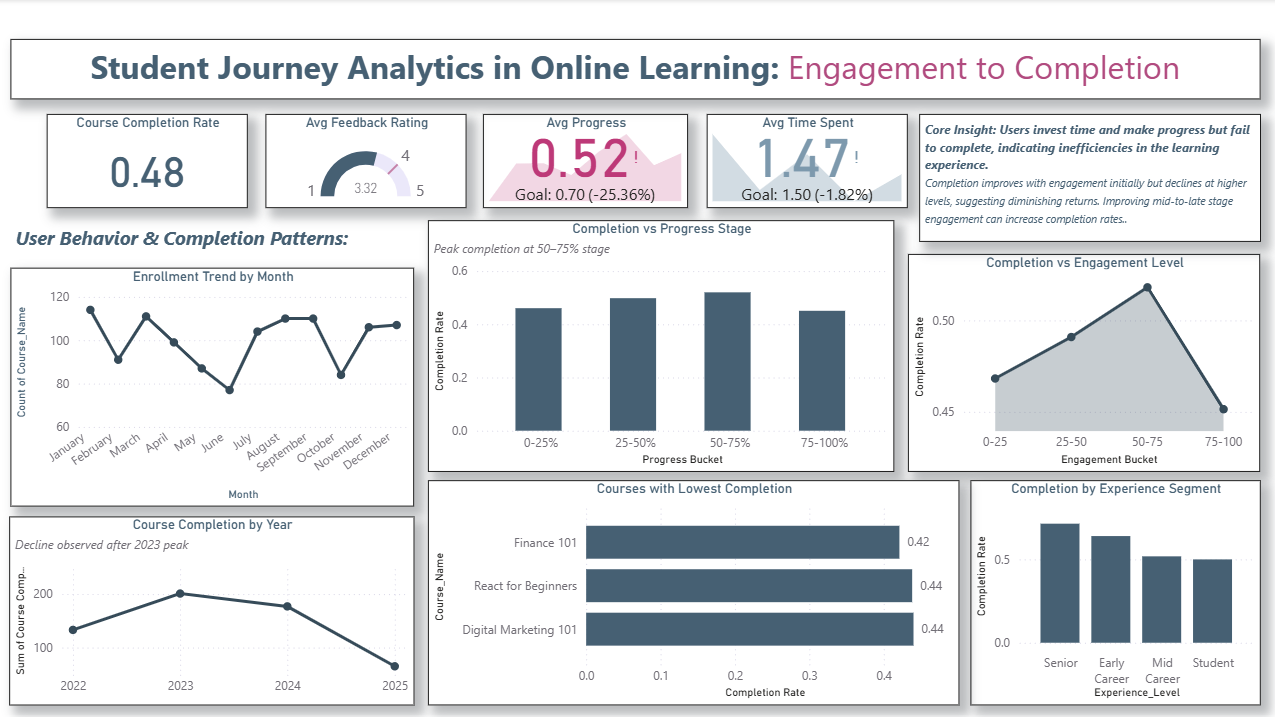

The page's visual inventory and layout, read from the dashboard file:
{"tool":"powerbi","page":{"name":"Performance & Engagement Analysis ","canvas":[1280,720],"ordinal":0},"visuals":[{"type":"kpi","title":"Avg Progress","fields":{"Indicator":["Avg(Final Data.Progress (%))"],"TrendLine":["Final Data.Total Sessions"],"Goal":["Final Data.Progress Goal"]},"box":[483.1,114.9,204,93.3],"z":0},{"type":"textbox","box":[12.4,39.8,1244,59.7],"z":1000},{"type":"gauge","title":"Avg Feedback Rating","fields":{"Y":["Avg(Final Data.Feedback_Rating)"],"MaxValue":["Final Data.Max Feedback"],"MinValue":["Final Data.Min Feedback"],"TargetValue":["Final Data.Feedback Goal"]},"box":[265.9,114.9,200.3,93.3],"z":2000},{"type":"lineChart","title":"Enrollment Trend by Month","fields":{"Category":["Final Data.Enrollment_Date.Variation.Date Hierarchy.Month"],"Y":["CountNonNull(Final Data.Course_Name)"]},"box":[12.4,267.5,401.8,237.6],"z":3000},{"type":"kpi","title":"Avg Time Spent","fields":{"Indicator":["Final Data.Average time spent"],"TrendLine":["Final Data.Course_Category"],"Goal":["Final Data.Time Spent Goal"]},"box":[705.7,114.9,200.3,93.3],"z":4000},{"type":"clusteredColumnChart","title":"Completion vs Progress Stage","fields":{"Y":["Final Data.Completion Rate"],"Category":["Final Data.Progress Bucket"]},"box":[427.9,220.2,464,250],"z":5000},{"type":"areaChart","title":"Completion vs Engagement Level","fields":{"Y":["Final Data.Completion Rate"],"Category":["Final Data.Engagement Bucket"]},"box":[905.6,253.8,350.8,216.4],"z":6000},{"type":"card","title":"Course Completion Rate","fields":{"Values":["Final Data.Completion Rate"]},"box":[48.9,114.9,200.3,93.3],"z":7000},{"type":"lineChart","title":"Course Completion  by Year","fields":{"Category":["Final Data.Enrollment_Date.Variation.Date Hierarchy.Year","Final Data.Enrollment_Date.Variation.Date Hierarchy.Quarter","Final Data.Enrollment_Date.Variation.Date Hierarchy.Month","Final Data.Enrollment_Date.Variation.Date Hierarchy.Day"],"Y":["Sum(Final Data.Course Completion )"]},"box":[11.2,515,403,187.8],"z":8000},{"type":"clusteredColumnChart","title":"Completion by Experience Segment","fields":{"Category":["Final Data.Experience_Level "],"Y":["Final Data.Completion Rate"]},"box":[967.8,478.9,288.6,223.9],"z":9000},{"type":"textbox","box":[916.8,114.4,339.6,126.9],"z":10000},{"type":"clusteredBarChart","title":"Courses with Lowest Completion","fields":{"Category":["Final Data.Course_Name"],"Y":["Final Data.Completion Rate"]},"box":[427.9,478.9,528.7,223.9],"z":11000},{"type":"textbox","box":[12.4,220.2,401.8,42.3],"z":12000}]}

Visuals, with their boxes in screenshot pixels (x1, y1, x2, y2), scaled from the page's 1280x720 canvas onto the 1275x717 screenshot:
"Avg Progress" kpi: box=[481, 114, 684, 207]
textbox: box=[12, 40, 1251, 99]
"Avg Feedback Rating" gauge: box=[265, 114, 464, 207]
"Enrollment Trend by Month" lineChart: box=[12, 266, 413, 503]
"Avg Time Spent" kpi: box=[703, 114, 902, 207]
"Completion vs Progress Stage" clusteredColumnChart: box=[426, 219, 888, 468]
"Completion vs Engagement Level" areaChart: box=[902, 253, 1251, 468]
"Course Completion Rate" card: box=[49, 114, 248, 207]
"Course Completion  by Year" lineChart: box=[11, 513, 413, 700]
"Completion by Experience Segment" clusteredColumnChart: box=[964, 477, 1251, 700]
textbox: box=[913, 114, 1251, 240]
"Courses with Lowest Completion" clusteredBarChart: box=[426, 477, 953, 700]
textbox: box=[12, 219, 413, 261]
